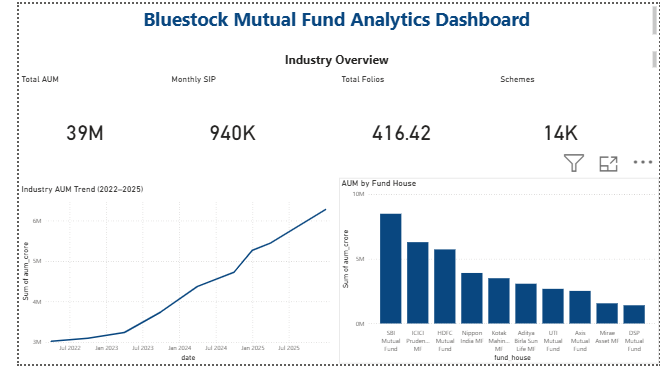

The dashboard page shown, as its layout file describes it:
{"tool":"powerbi","page":{"name":"Industry Overview","canvas":[1280,720],"ordinal":0},"visuals":[{"type":"textbox","box":[0,0,1280,90],"z":0},{"type":"textbox","box":[0,90,1280,50],"z":1000},{"type":"card","title":"Total AUM","fields":{"Values":["Sum(03_aum_by_fund_house.aum_crore)"]},"box":[0,140,263.3,208.3],"z":2000},{"type":"card","title":"Monthly SIP","fields":{"Values":["Sum(04_monthly_sip_inflows.sip_inflow_crore)"]},"box":[300,140,253.3,208.3],"z":3000},{"type":"card","title":"Total Folios","fields":{"Values":["Sum(06_industry_folio_count.total_folios_crore)"]},"box":[640,140,250,208.3],"z":4000},{"type":"card","title":"Schemes","fields":{"Values":["Sum(03_aum_by_fund_house.num_schemes)"]},"box":[956.7,140,250,208.3],"z":5000},{"type":"lineChart","title":"Industry AUM Trend (2022–2025)","fields":{"Y":["Sum(03_aum_by_fund_house.aum_crore)"],"Category":["03_aum_by_fund_house.date"]},"box":[0,360,640,360],"z":6000},{"type":"clusteredColumnChart","title":"AUM by Fund House","fields":{"Category":["03_aum_by_fund_house.fund_house"],"Y":["Sum(03_aum_by_fund_house.aum_crore)"]},"box":[640.6,347.8,639.1,372.5],"z":7000}]}

Visuals, with their boxes in screenshot pixels (x1, y1, x2, y2), scaled from the page's 1280x720 canvas onto the 662x371 screenshot:
textbox: BBox(0, 0, 661, 46)
textbox: BBox(0, 46, 661, 72)
"Total AUM" card: BBox(0, 72, 136, 179)
"Monthly SIP" card: BBox(155, 72, 286, 179)
"Total Folios" card: BBox(331, 72, 460, 179)
"Schemes" card: BBox(495, 72, 624, 179)
"Industry AUM Trend (2022–2025)" lineChart: BBox(0, 185, 331, 370)
"AUM by Fund House" clusteredColumnChart: BBox(331, 179, 661, 370)
